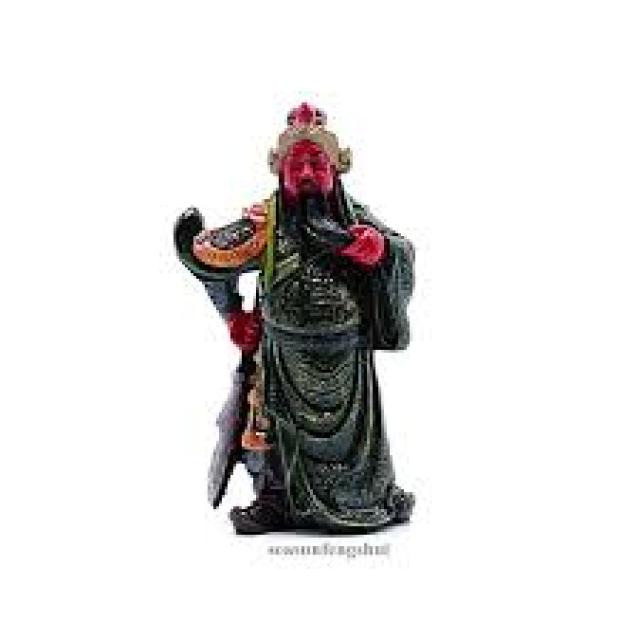Guan Yu: (197, 98, 412, 426)
